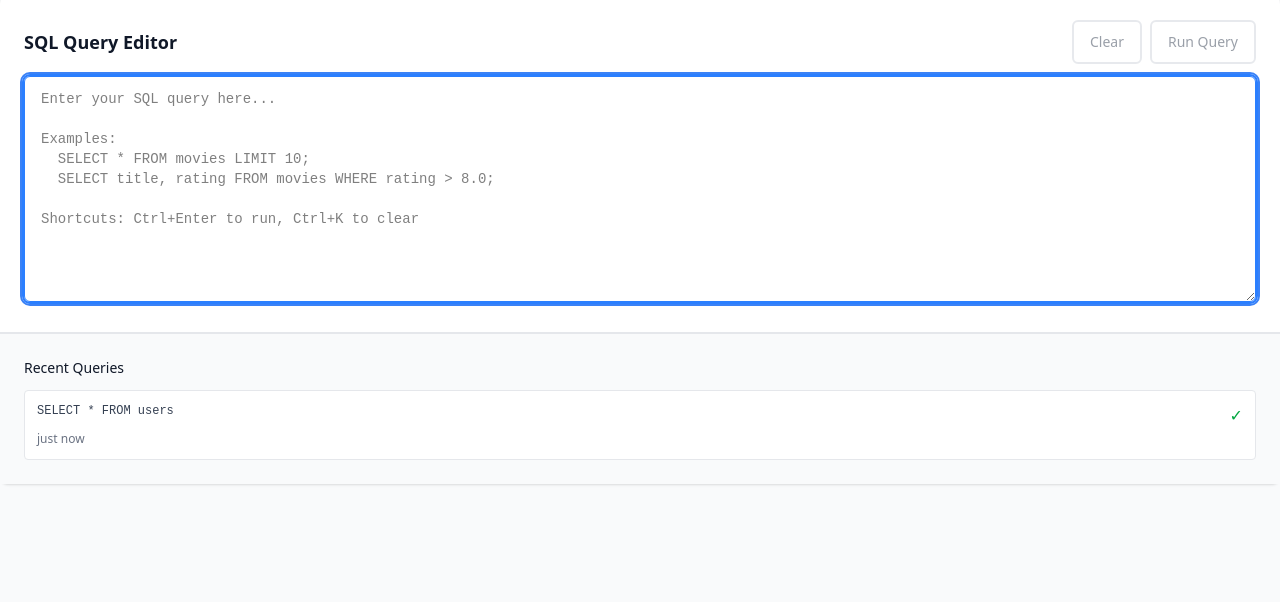
Test case: QueryEditor › Query Execution › shows error message on SQL syntax error
The width and height of the screenshot is (1280, 602).
In the text box named "sql query input": point(640, 189) [24,76,1256,302], type "SELCT * FROM users"
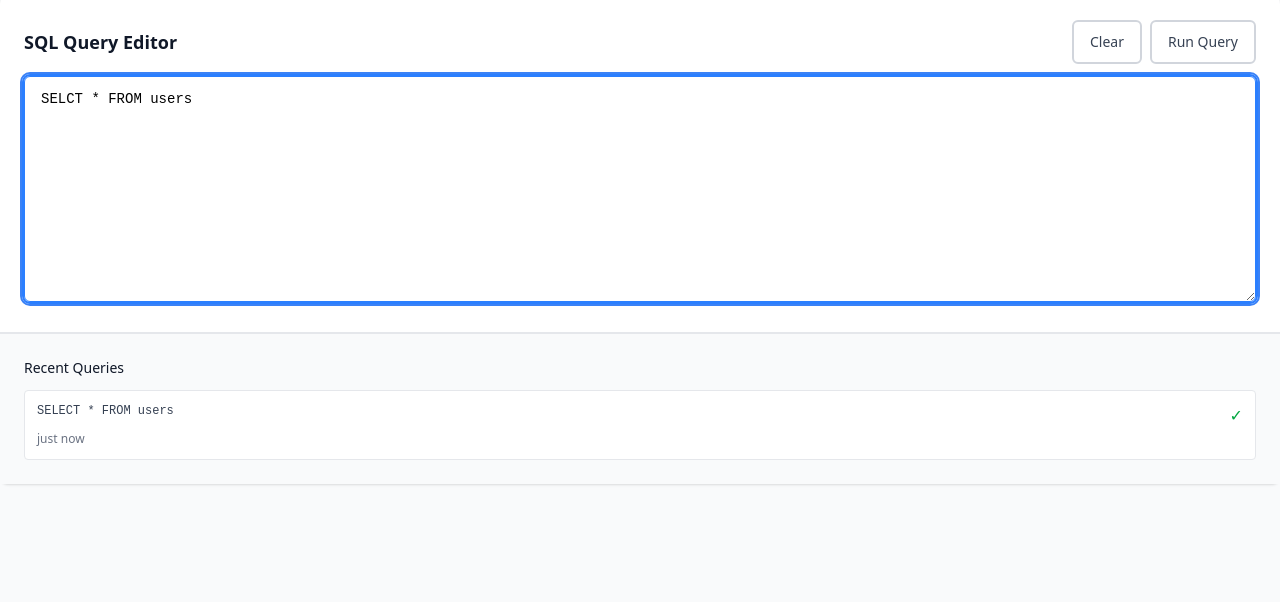
Click the button "Run Query": point(1203, 42) [1150,20,1256,64]
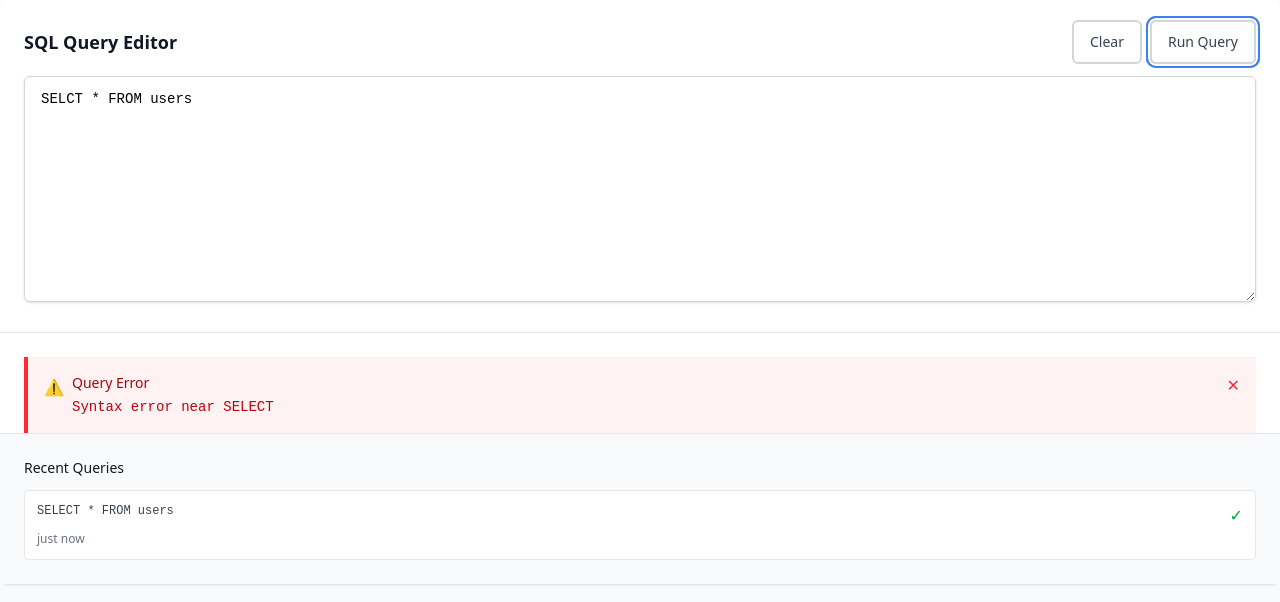
Expected: the text "Query Error" is shown, [72,373,149,392]
Expected: the text "Syntax error near SELECT" is shown, [72,397,274,417]
